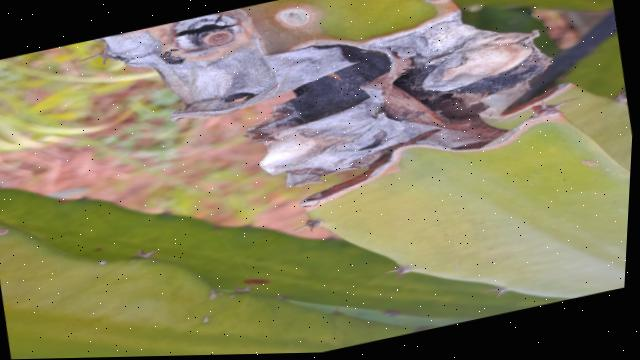stemcanker: (229, 267, 288, 294), (252, 7, 315, 32), (575, 154, 603, 172)
